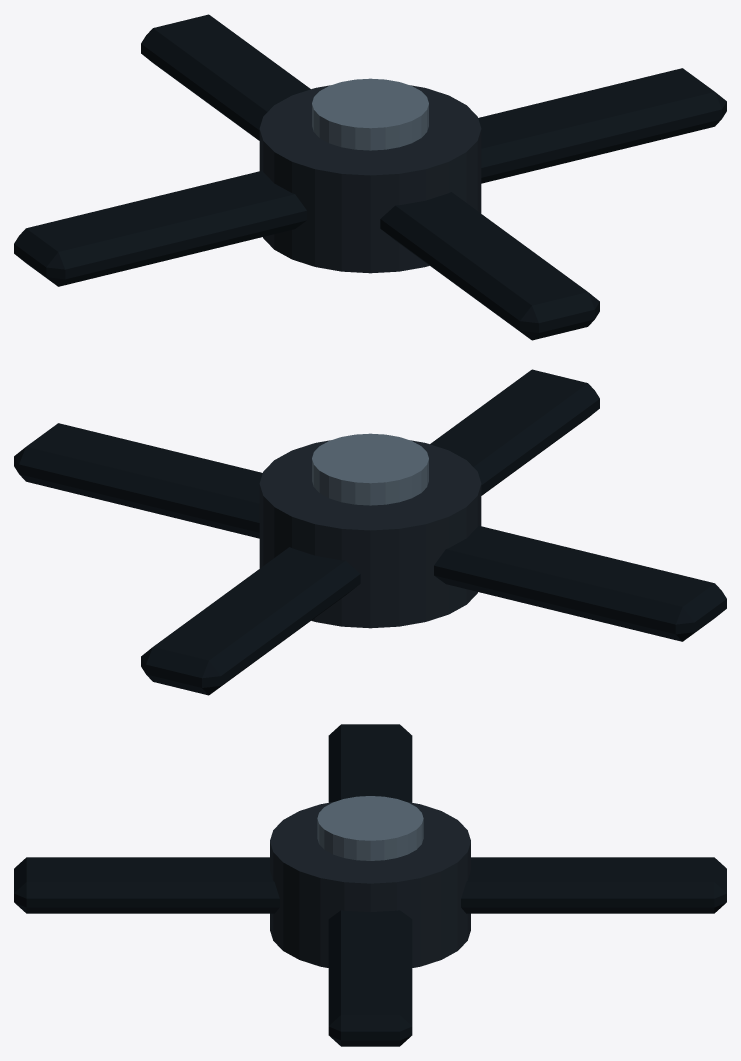
Rendered from 06_right_rotor.obj.
3 views of the same model, one above another, from view 1: azimuth 30°, elevation 25°; view 2: azimuth 150°, elevation 25°; view 3: azimuth 270°, elevation 25° (orthographic). The views are drawn at different scales.
Parts seen in each view (by area): view 1: fragment_06_right_rotor; view 2: fragment_06_right_rotor; view 3: fragment_06_right_rotor.
Part boxes in pixels (<box>): fragment_06_right_rotor: <box>14,14,726,340</box>; fragment_06_right_rotor: <box>14,369,726,695</box>; fragment_06_right_rotor: <box>14,724,726,1046</box>.
Size of the model in its own units: 0.51 by 0.088 by 0.51.
